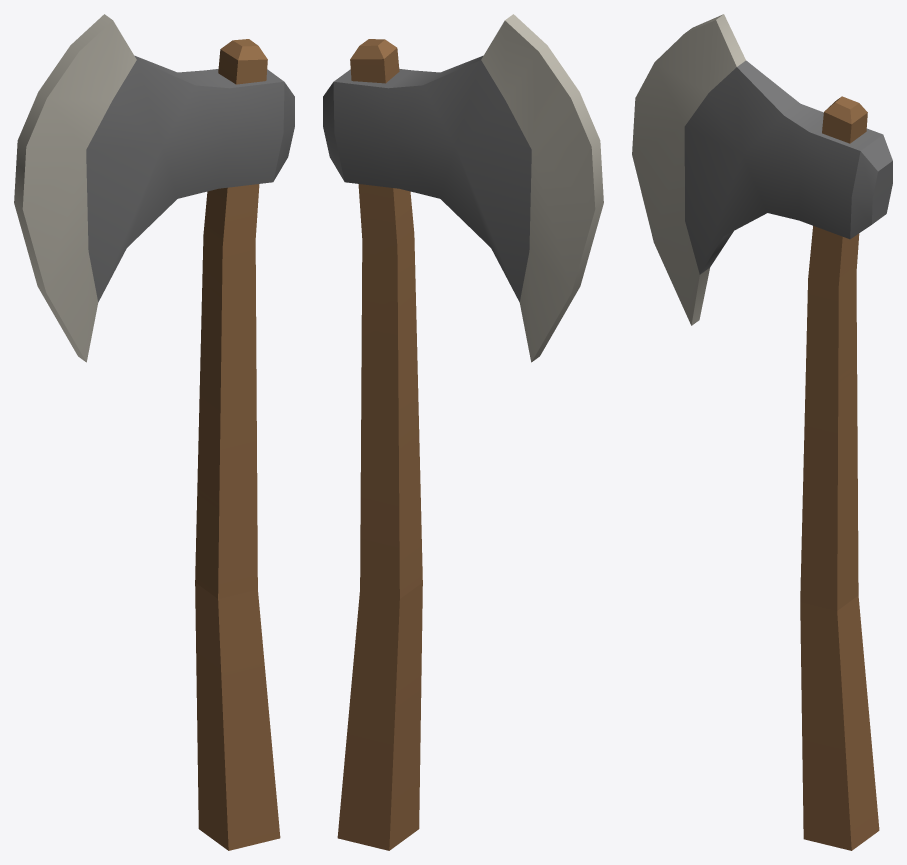
The picture shows the model from 3 angles, left to right: view 1: azimuth 30°, elevation 25°; view 2: azimuth 150°, elevation 25°; view 3: azimuth 330°, elevation 25°; orthographic projection. The views are drawn at different scales.
Visible parts, largest first — view 1: Ax_E; view 2: Ax_E; view 3: Ax_E.
Part boxes in pixels (<box>): Ax_E: <box>14,14,294,850</box>; Ax_E: <box>323,14,603,850</box>; Ax_E: <box>632,14,892,850</box>.
Size of the model in its own units: 33.54 by 101 by 7.13.
